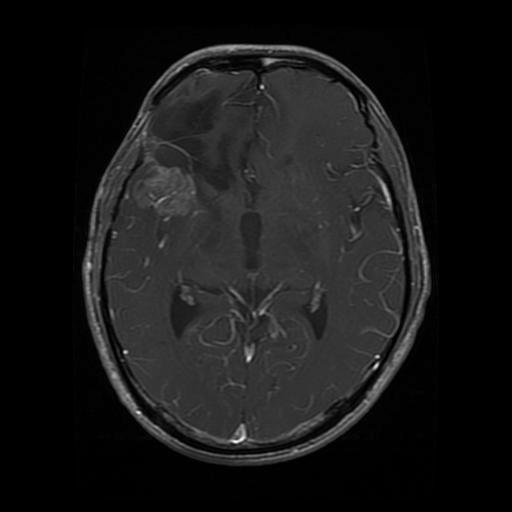Tumour-Glioma: (156, 95, 255, 197)
